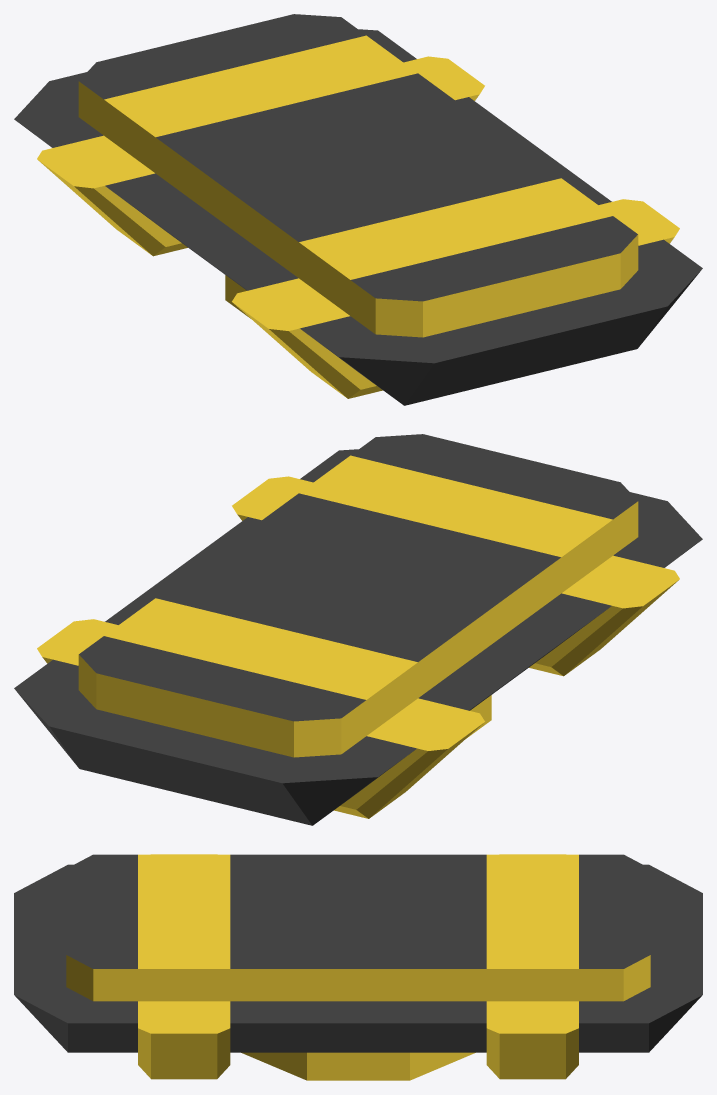
Rendered from Lamp 2.fbx.
The picture shows the model from 3 angles, top to bottom: view 1: azimuth 30°, elevation 25°; view 2: azimuth 150°, elevation 25°; view 3: azimuth 270°, elevation 25°; orthographic projection. The views are drawn at different scales.
Visible parts, largest first — view 1: Lamp 1.006; view 2: Lamp 1.006; view 3: Lamp 1.006.
Boxes of the visible parts, x1,y1,x2,y2 form: Lamp 1.006: [14, 14, 702, 405]; Lamp 1.006: [14, 434, 702, 825]; Lamp 1.006: [14, 854, 702, 1080].
Size of the model in its own units: 0.8722 by 0.2794 by 1.42.
